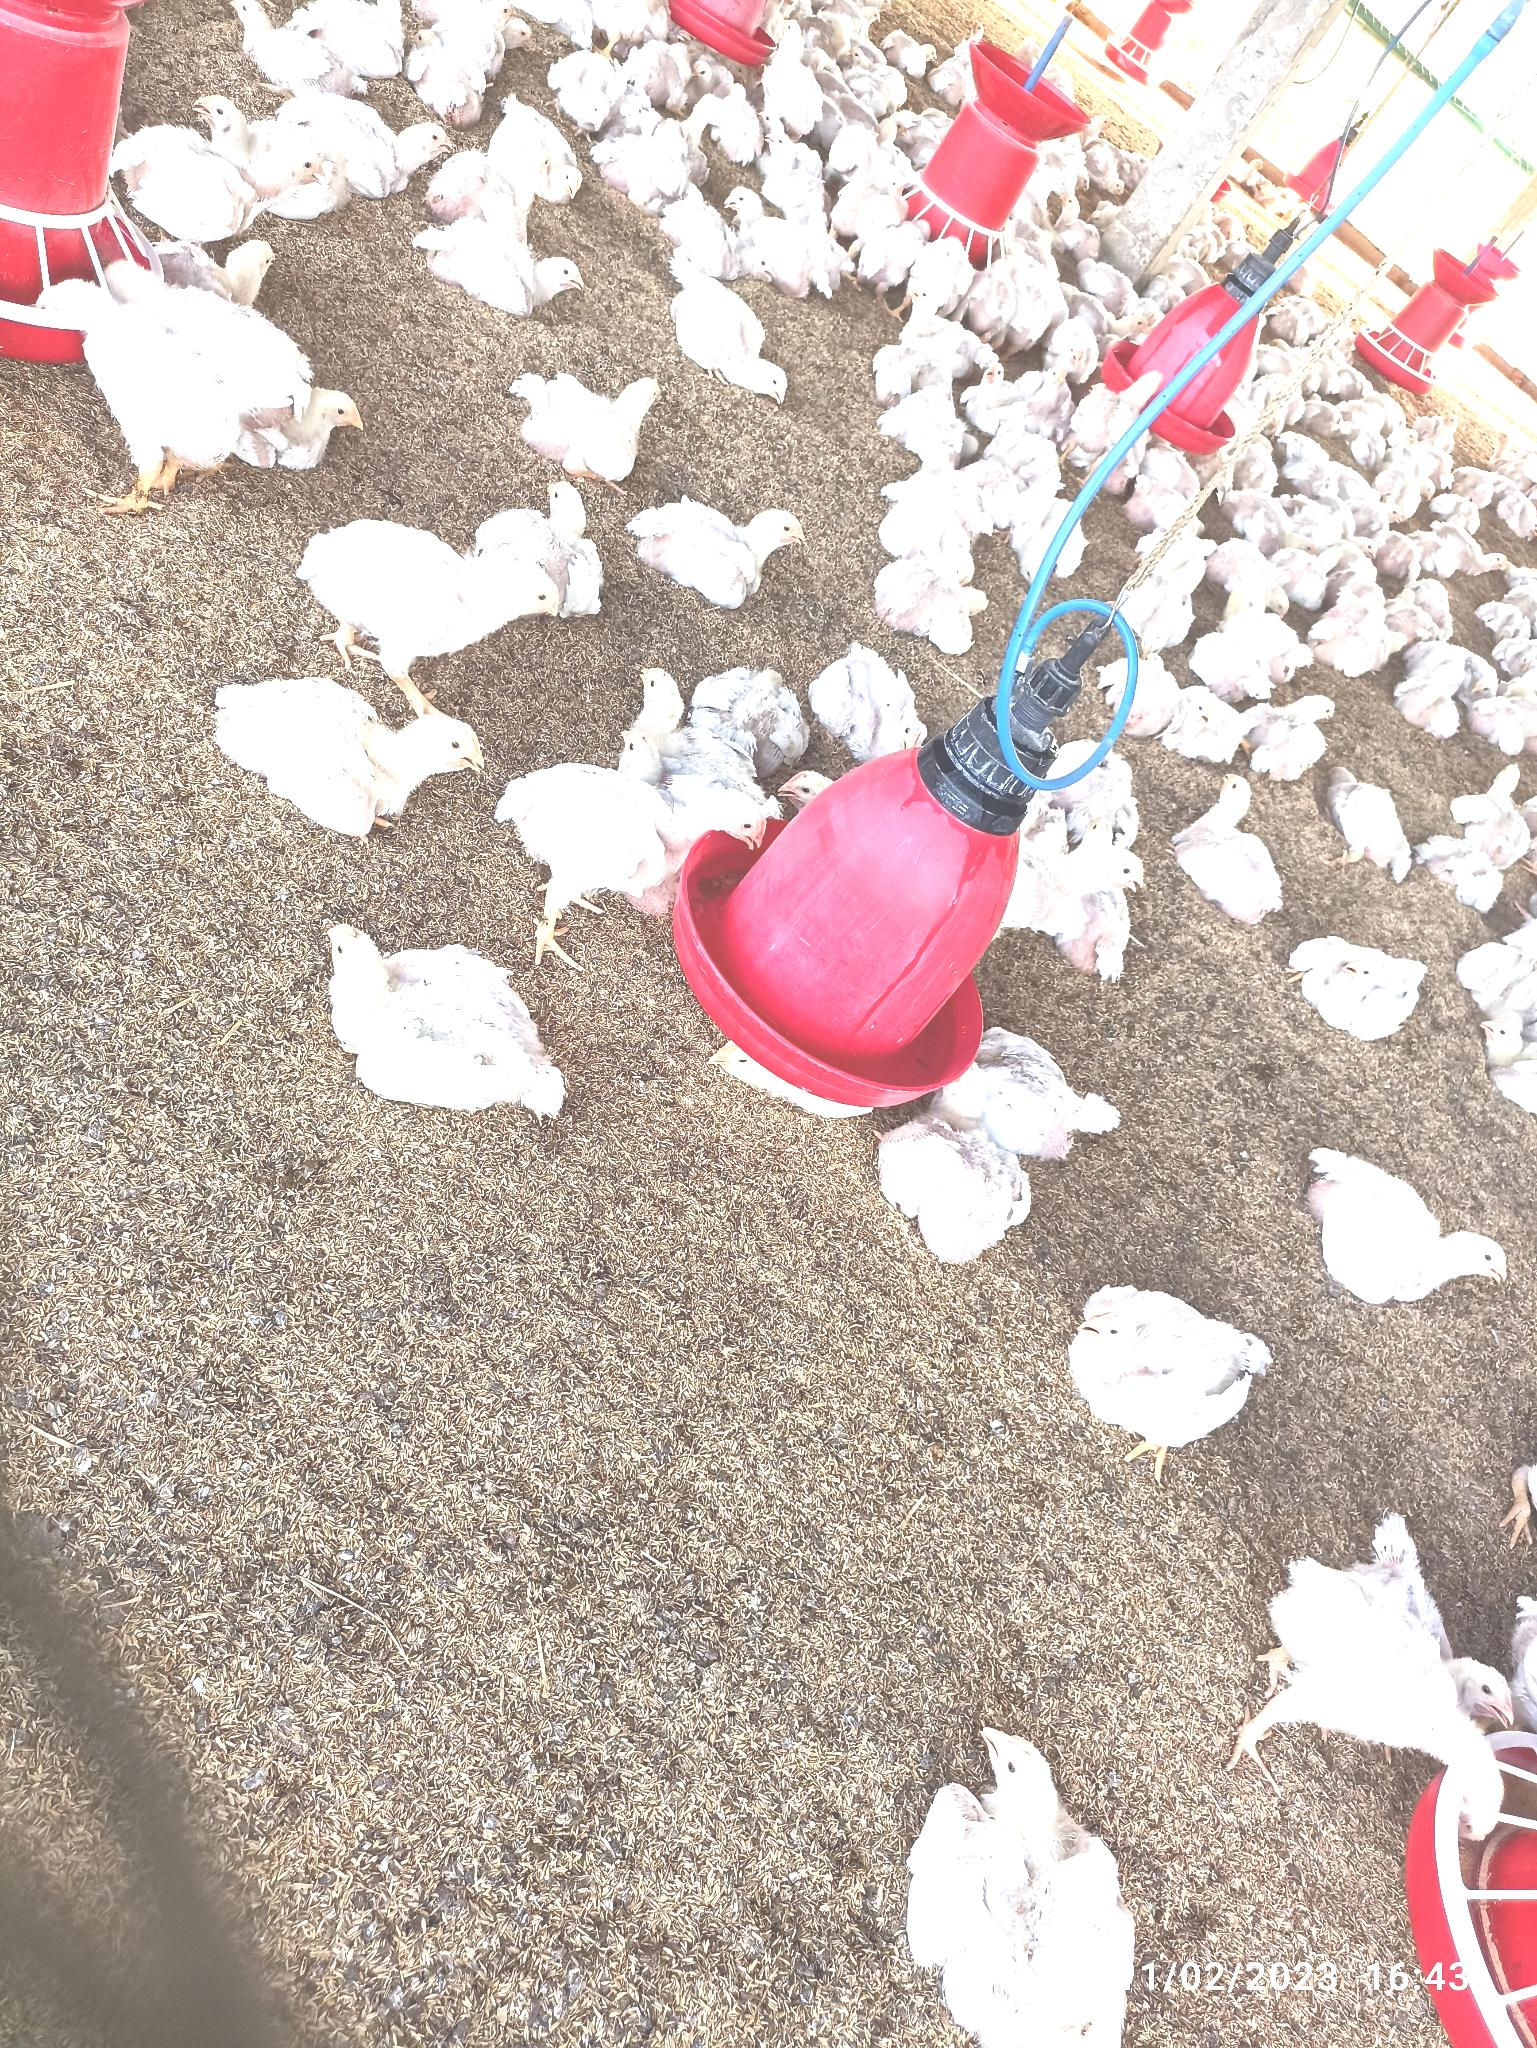Pollos: (906, 1722, 1140, 2048), (1267, 1544, 1527, 1811), (307, 918, 572, 1109), (216, 676, 484, 830), (48, 273, 232, 495), (307, 520, 567, 673), (1305, 1139, 1518, 1302), (518, 757, 765, 897), (1070, 1281, 1271, 1443), (986, 1025, 1137, 1180), (655, 249, 791, 407), (116, 139, 329, 234), (628, 657, 798, 767), (1180, 771, 1296, 918), (513, 373, 664, 483), (441, 205, 594, 311), (294, 105, 460, 192), (646, 504, 802, 591), (819, 637, 928, 747), (883, 528, 990, 641), (1305, 941, 1424, 1041), (241, 386, 366, 470), (496, 89, 588, 195), (718, 173, 819, 268), (1337, 767, 1418, 875), (609, 111, 693, 205), (903, 281, 983, 376), (764, 18, 823, 132), (969, 358, 1059, 433), (1388, 670, 1464, 747), (1271, 684, 1348, 757), (1174, 694, 1253, 747), (1322, 605, 1376, 667), (1059, 308, 1103, 382)
